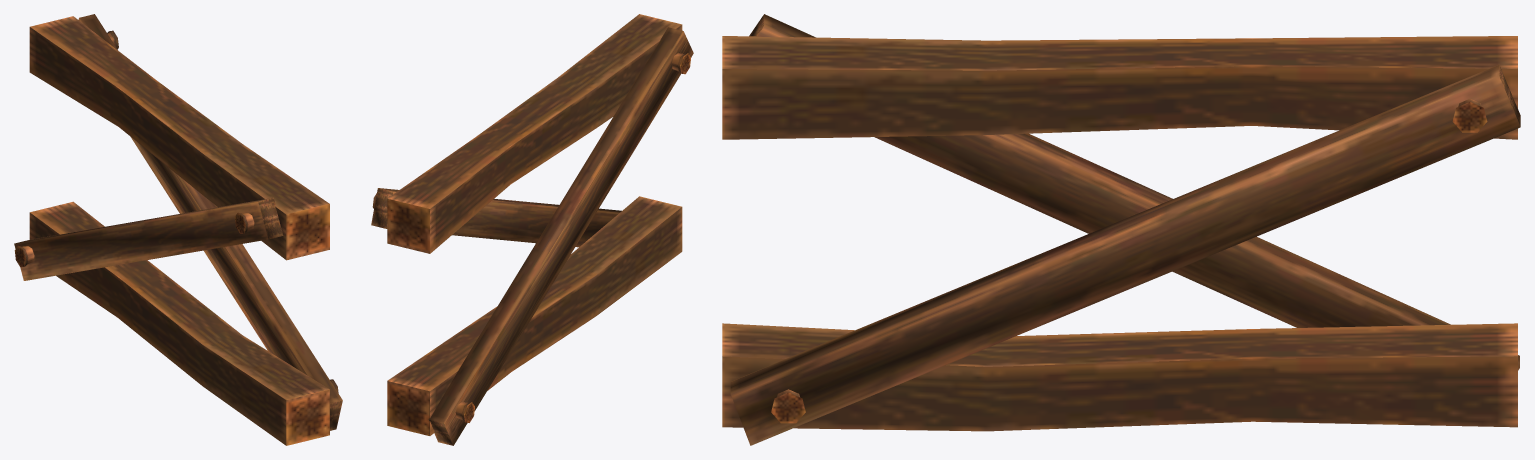
File: INST_SWORDLIGHT_SCFLDNGH.fbx
3 views of the same model, side by side, from view 1: azimuth 30°, elevation 25°; view 2: azimuth 150°, elevation 25°; view 3: azimuth 270°, elevation 25° (orthographic). The views are drawn at different scales.
Parts seen in each view (by area): view 1: INST_SWORDLIGHT_SCFLDNGH; view 2: INST_SWORDLIGHT_SCFLDNGH; view 3: INST_SWORDLIGHT_SCFLDNGH.
Boxes of the visible parts, bbox=[...] form: INST_SWORDLIGHT_SCFLDNGH: bbox=[14, 14, 342, 445]; INST_SWORDLIGHT_SCFLDNGH: bbox=[371, 14, 693, 445]; INST_SWORDLIGHT_SCFLDNGH: bbox=[722, 14, 1520, 445].
Size of the model in its own units: 4150 by 10703 by 19909.
2 materials, 2 textured.
